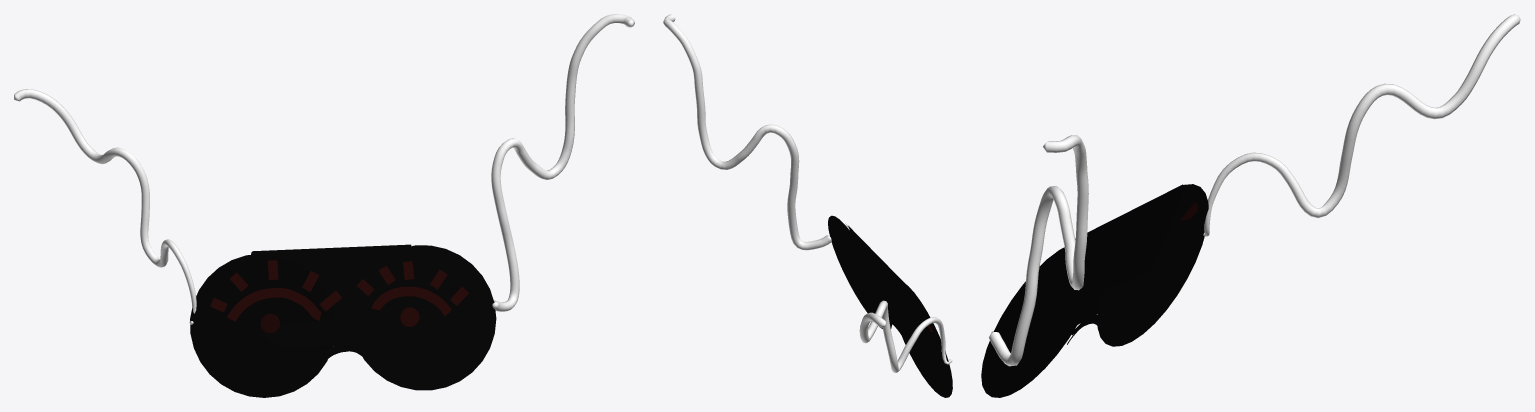
The picture shows the model from 3 angles, left to right: view 1: azimuth 30°, elevation 25°; view 2: azimuth 150°, elevation 25°; view 3: azimuth 270°, elevation 25°; orthographic projection. The views are drawn at different scales.
Parts seen in each view (by area): view 1: brush_UnlitHull_g1_b0, brush_Icing_g1_b0, brush_Flat_g1_b0; view 2: brush_UnlitHull_g1_b0, brush_Icing_g1_b0; view 3: brush_UnlitHull_g1_b0, brush_Icing_g1_b0.
Boxes of the visible parts, <box> form: brush_UnlitHull_g1_b0: <box>190,244,496,397</box>; brush_Icing_g1_b0: <box>14,14,634,324</box>; brush_Flat_g1_b0: <box>210,260,468,367</box>; brush_UnlitHull_g1_b0: <box>828,215,952,397</box>; brush_Icing_g1_b0: <box>663,14,952,372</box>; brush_UnlitHull_g1_b0: <box>981,184,1208,397</box>; brush_Icing_g1_b0: <box>989,14,1520,366</box>.
Bounding box in the file's own units: 3.72 × 2.64 × 3.2.
